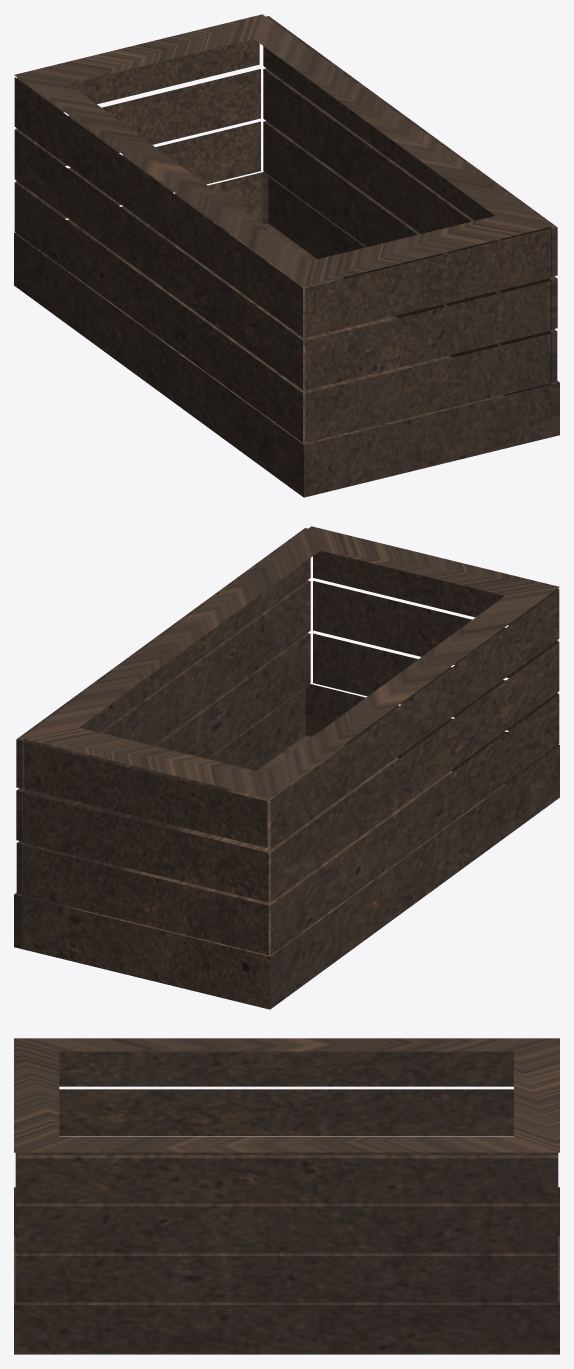
The model's file is cofre.obj.
3 views of the same model, one above another, from view 1: azimuth 30°, elevation 25°; view 2: azimuth 150°, elevation 25°; view 3: azimuth 270°, elevation 25° (orthographic). The views are drawn at different scales.
Parts seen in each view (by area): view 1: polySurface21; view 2: polySurface21; view 3: polySurface21.
Boxes of the visible parts, box(x1,y1,x2,y2) form: polySurface21: box(14, 14, 559, 497); polySurface21: box(14, 526, 559, 1009); polySurface21: box(14, 1038, 559, 1354).
Bounding box in the file's own units: 1.79 × 1.41 × 3.51.
Materials: 1 (1 with a texture image).
